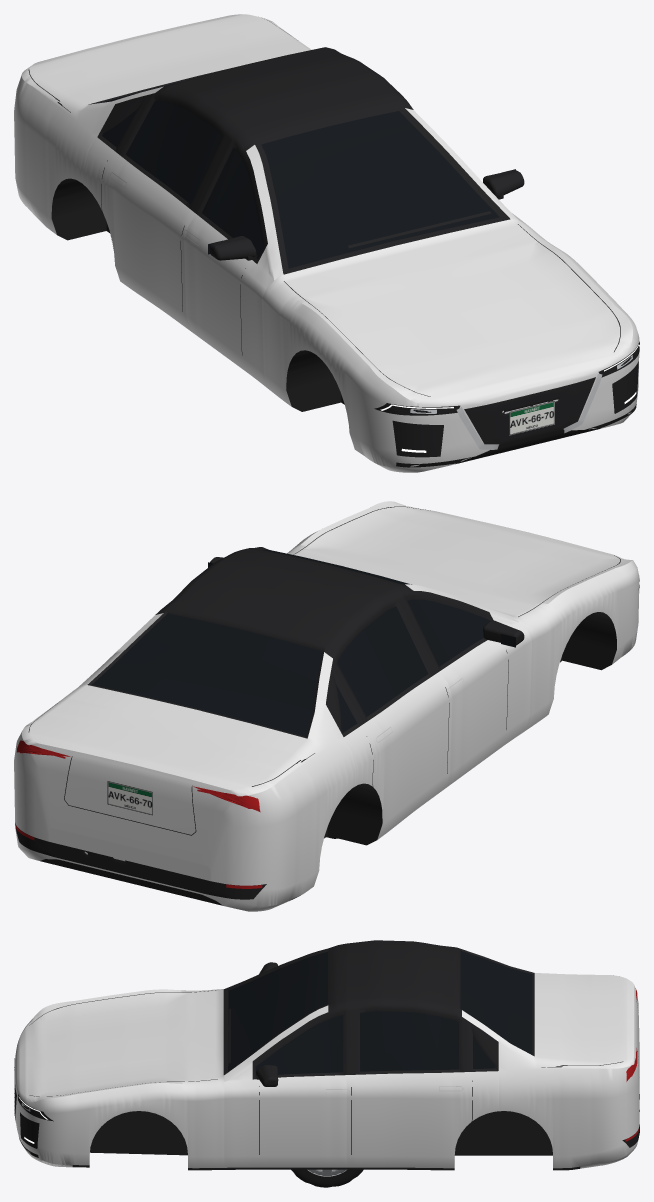
File: nissan-sentra.glb
3 views of the same model, one above another, from view 1: azimuth 30°, elevation 25°; view 2: azimuth 150°, elevation 25°; view 3: azimuth 270°, elevation 25° (orthographic). The views are drawn at different scales.
Visible parts, largest first — view 1: body; view 2: body; view 3: body, wheel.
Part boxes in pixels (bbox=[...]): body: bbox=[14, 14, 639, 472]; body: bbox=[14, 501, 639, 911]; body: bbox=[14, 940, 639, 1170]; wheel: bbox=[291, 1169, 363, 1187].
Size of the model in its own units: 2.05 by 1.77 by 4.64.
Materials: 1 (1 with a texture image).
